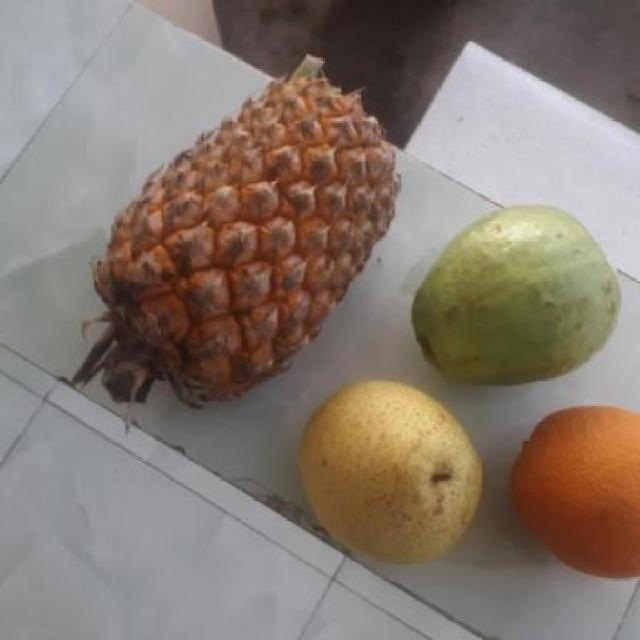guava: (406, 208, 619, 383)
oren: (508, 399, 640, 586)
pear: (284, 378, 484, 564)
pineapple: (94, 84, 392, 413)
